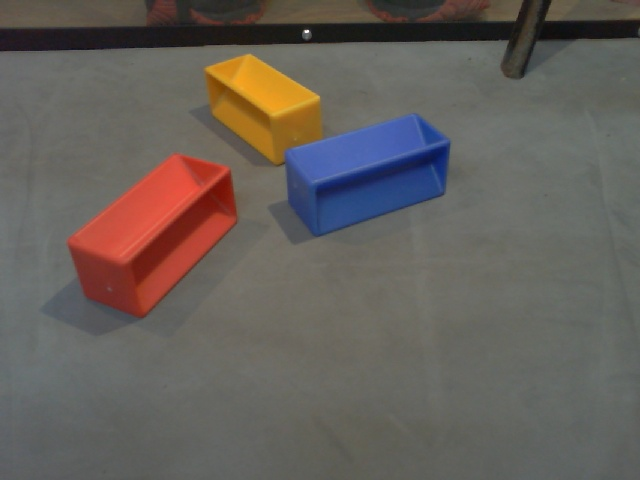BlueSample: (282, 110, 451, 236)
RedSample: (64, 150, 238, 321)
YellowSample: (202, 51, 326, 166)
